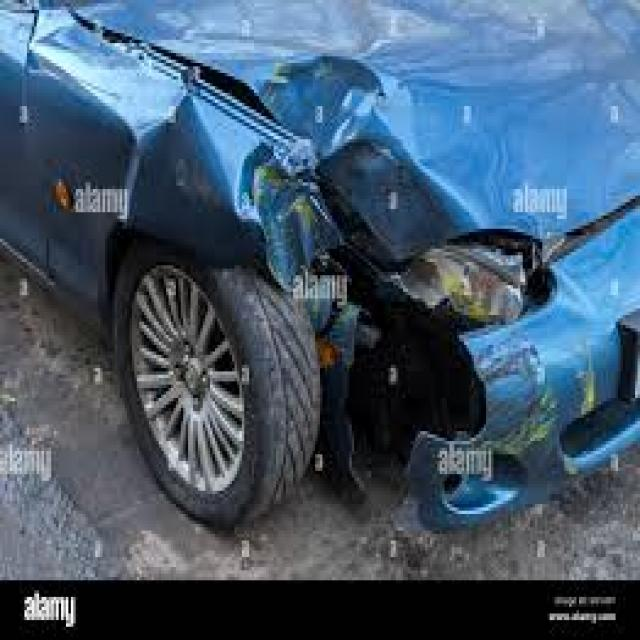severe: (116, 63, 584, 484)
